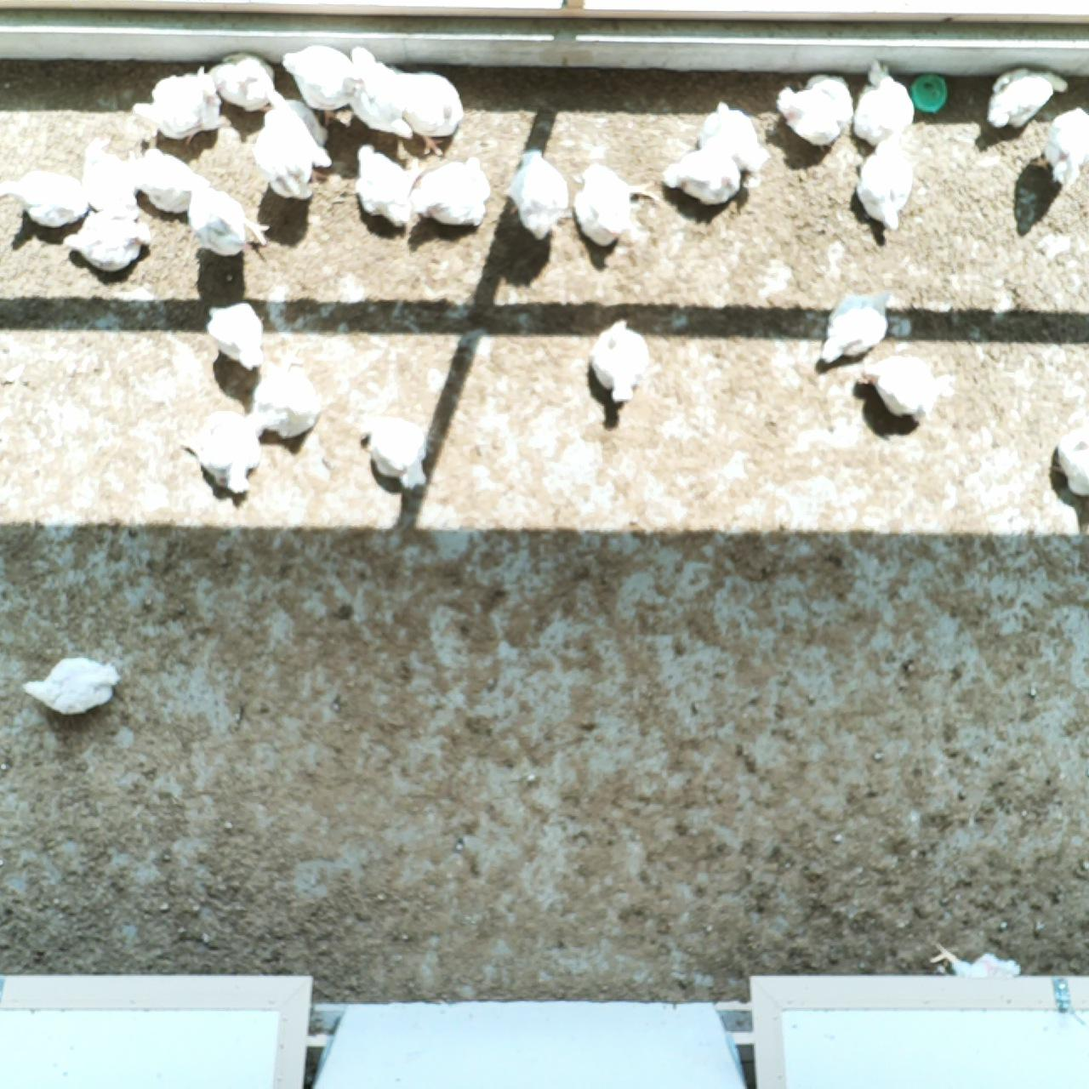chicken: (129, 64, 233, 147), (178, 408, 265, 500), (571, 163, 659, 250), (252, 342, 326, 439), (279, 42, 362, 126), (391, 64, 466, 156), (186, 181, 270, 263), (347, 43, 415, 143), (858, 354, 956, 422), (20, 653, 122, 718), (503, 146, 572, 242), (852, 130, 917, 231), (354, 139, 425, 230), (817, 288, 894, 371), (124, 145, 212, 217), (61, 207, 151, 277), (584, 316, 653, 407), (249, 108, 315, 203), (774, 72, 856, 148), (988, 67, 1071, 139), (357, 411, 430, 492), (413, 154, 492, 228), (0, 167, 90, 231), (699, 98, 771, 176), (854, 57, 915, 147), (659, 144, 741, 207), (78, 134, 141, 214), (203, 299, 270, 372), (1030, 106, 1089, 187), (206, 49, 280, 111), (261, 86, 333, 149), (930, 941, 1025, 979), (1050, 419, 1089, 499)
